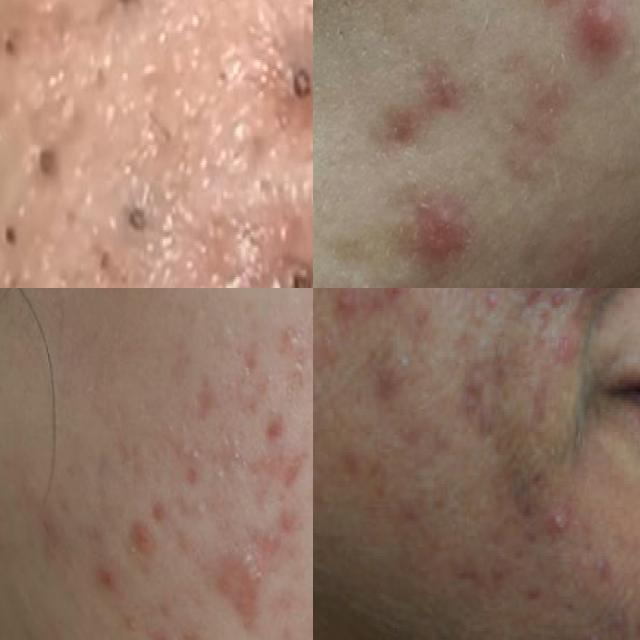acne_scars: (377, 57, 486, 162), (244, 447, 308, 498), (276, 368, 313, 413), (278, 511, 308, 538)
comedone: (279, 60, 313, 108), (35, 148, 61, 198), (170, 435, 207, 468), (0, 219, 22, 260), (103, 0, 153, 15), (284, 266, 313, 288), (128, 204, 151, 230), (194, 499, 210, 532), (345, 271, 376, 288), (210, 459, 228, 488)
papule: (206, 537, 275, 626), (408, 201, 478, 278), (588, 0, 636, 70), (122, 518, 162, 572), (258, 406, 293, 457)
